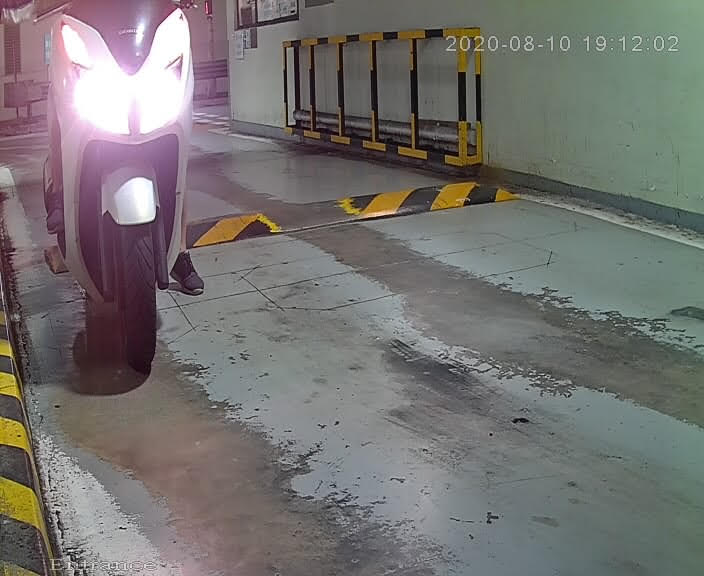motorcycle: (5, 1, 231, 368)
